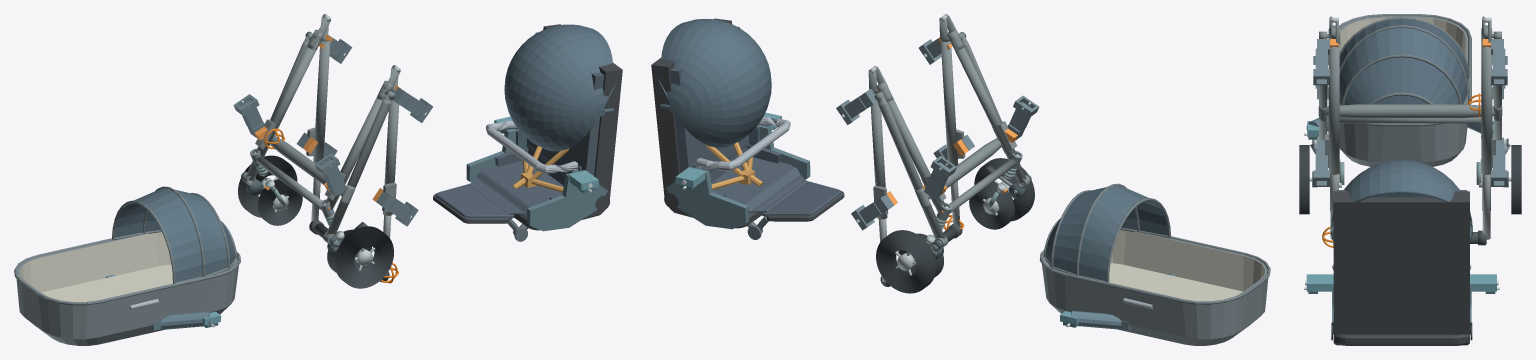
File: D05_w550_state3_wheel_S.glb
3 views of the same model, side by side, from view 1: azimuth 30°, elevation 25°; view 2: azimuth 150°, elevation 25°; view 3: azimuth 270°, elevation 25° (orthographic). The views are drawn at different scales.
Parts seen in each view (by area): view 1: D05_Upper, D05_Lower, D05_Lower_Mount_L, RL_tire.004, main_upper_1.005, V46_rear_leg_-1.005, FR_tire.004, main_lower_1.005, D05_Upper_Mount_H, RR_tire.004, main_lower_-1.005, main_upper_-1.005 (+7 smaller); view 2: D05_Upper, D05_Lower, D05_Lower_Mount_L, RR_tire.004, main_upper_-1.005, V46_rear_leg_1.005, FL_tire.004, main_lower_-1.005, D05_Upper_Mount_H, main_lower_1.005, main_upper_1.005, RL_tire.004 (+7 smaller); view 3: D05_Lower, D05_Upper, V46_rearbar.005, main_upper_1.005, main_upper_-1.005, D05_Lower_Mount_L, front_fixed_round_tube.004, RL_tire.004, RR_tire.004, Universal_Cabin_Receiver_M_1, Universal_Cabin_Receiver_M_-1, Universal_Cabin_Receiver_H_1 (+6 smaller).
Part boxes in pixels (left/top/right/bottom): D05_Upper: left=14, top=186, right=240, bottom=345; D05_Lower: left=433, top=24, right=622, bottom=241; D05_Lower_Mount_L: left=466, top=116, right=607, bottom=231; RL_tire.004: left=334, top=226, right=393, bottom=288; main_upper_1.005: left=313, top=40, right=330, bottom=163; V46_rear_leg_-1.005: left=326, top=99, right=391, bottom=235; FR_tire.004: left=257, top=179, right=302, bottom=225; main_lower_1.005: left=255, top=40, right=319, bottom=157; D05_Upper_Mount_H: left=106, top=274, right=221, bottom=330; RR_tire.004: left=238, top=155, right=297, bottom=217; main_lower_-1.005: left=325, top=97, right=384, bottom=209; main_upper_-1.005: left=382, top=92, right=399, bottom=215; D05_Upper: left=1040, top=183, right=1270, bottom=345; D05_Lower: left=651, top=18, right=844, bottom=239; D05_Lower_Mount_L: left=666, top=112, right=810, bottom=229; RR_tire.004: left=876, top=230, right=936, bottom=293; main_upper_-1.005: left=941, top=41, right=958, bottom=165; V46_rear_leg_1.005: left=878, top=100, right=945, bottom=238; FL_tire.004: left=969, top=182, right=1014, bottom=229; main_lower_-1.005: left=952, top=41, right=1016, bottom=159; D05_Upper_Mount_H: left=1060, top=273, right=1177, bottom=330; main_lower_1.005: left=885, top=98, right=945, bottom=213; main_upper_1.005: left=870, top=93, right=887, bottom=219; RL_tire.004: left=974, top=158, right=1034, bottom=221; D05_Lower: left=1330, top=160, right=1472, bottom=345; D05_Upper: left=1339, top=14, right=1471, bottom=166; V46_rearbar.005: left=1325, top=104, right=1495, bottom=118; main_upper_1.005: left=1481, top=44, right=1492, bottom=174; main_upper_-1.005: left=1328, top=44, right=1339, bottom=174; D05_Lower_Mount_L: left=1304, top=274, right=1499, bottom=334; front_fixed_round_tube.004: left=1339, top=117, right=1481, bottom=123; RL_tire.004: left=1299, top=145, right=1309, bottom=214; RR_tire.004: left=1511, top=145, right=1521, bottom=214; Universal_Cabin_Receiver_M_1: left=1491, top=39, right=1507, bottom=85; Universal_Cabin_Receiver_M_-1: left=1313, top=39, right=1329, bottom=85; Universal_Cabin_Receiver_H_1: left=1491, top=140, right=1507, bottom=186.
Bounding box in the file's own units: 2.08 × 0.747 × 0.641.
